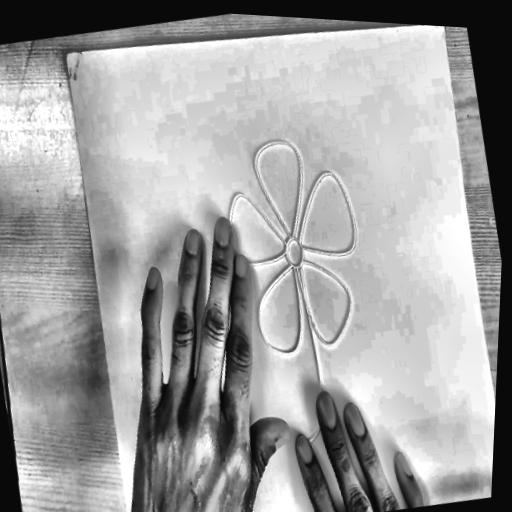flower: (207, 120, 392, 469)
top_left: (438, 26, 449, 34)
top_right: (60, 46, 73, 62)
